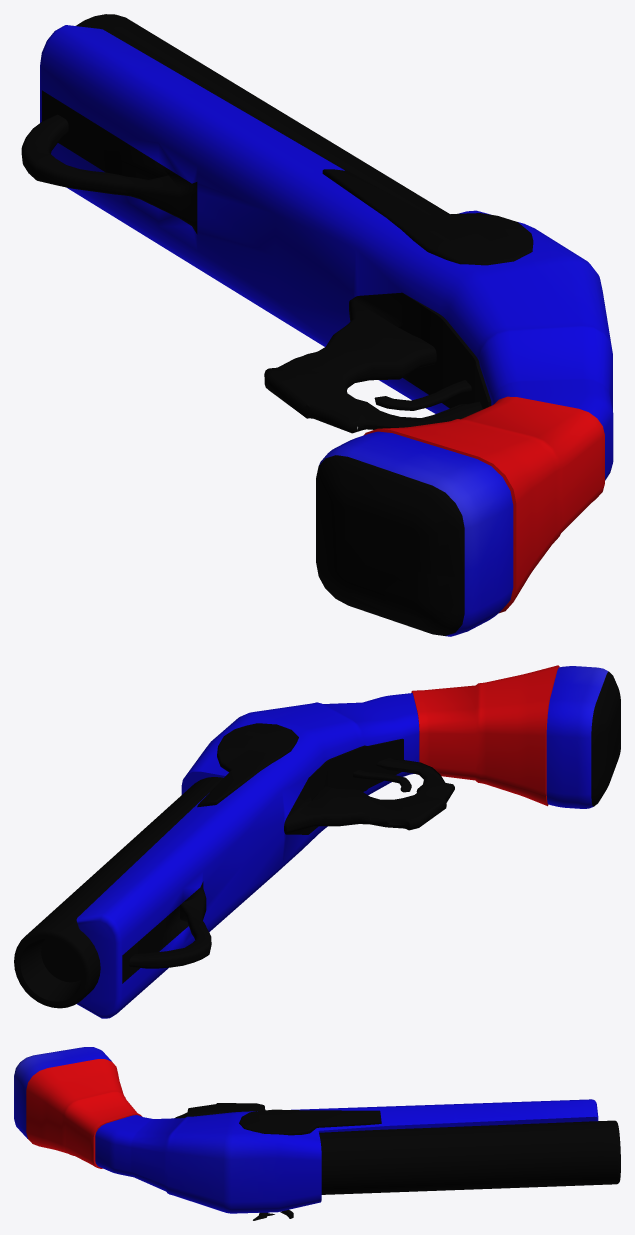
File: ATO_Flintlock.dae
3 views of the same model, one above another, from view 1: azimuth 30°, elevation 25°; view 2: azimuth 150°, elevation 25°; view 3: azimuth 270°, elevation 25° (orthographic). The views are drawn at different scales.
Visible parts, largest first — view 1: ATO_Flintlock; view 2: ATO_Flintlock; view 3: ATO_Flintlock.
Part boxes in pixels (<box>): ATO_Flintlock: <box>21,14,613,636</box>; ATO_Flintlock: <box>14,665,620,1018</box>; ATO_Flintlock: <box>14,1047,620,1220</box>.
Size of the model in its own units: 0.1316 by 0.0522 by 0.3344.
